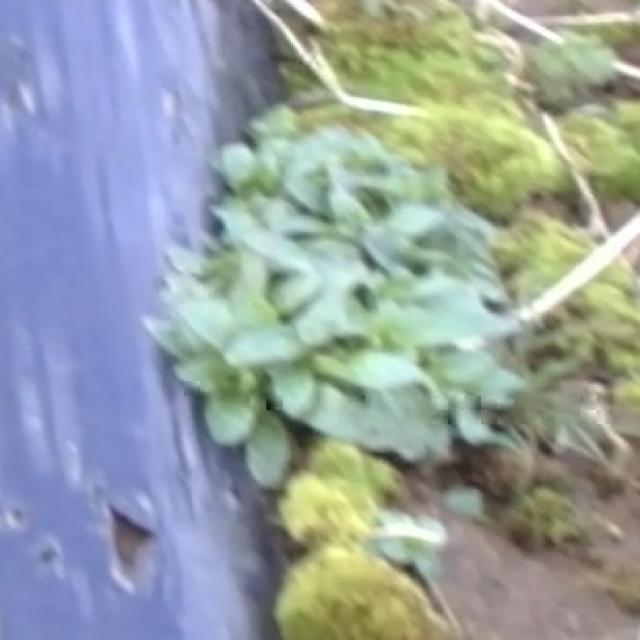organic waste: (114, 113, 587, 436)
